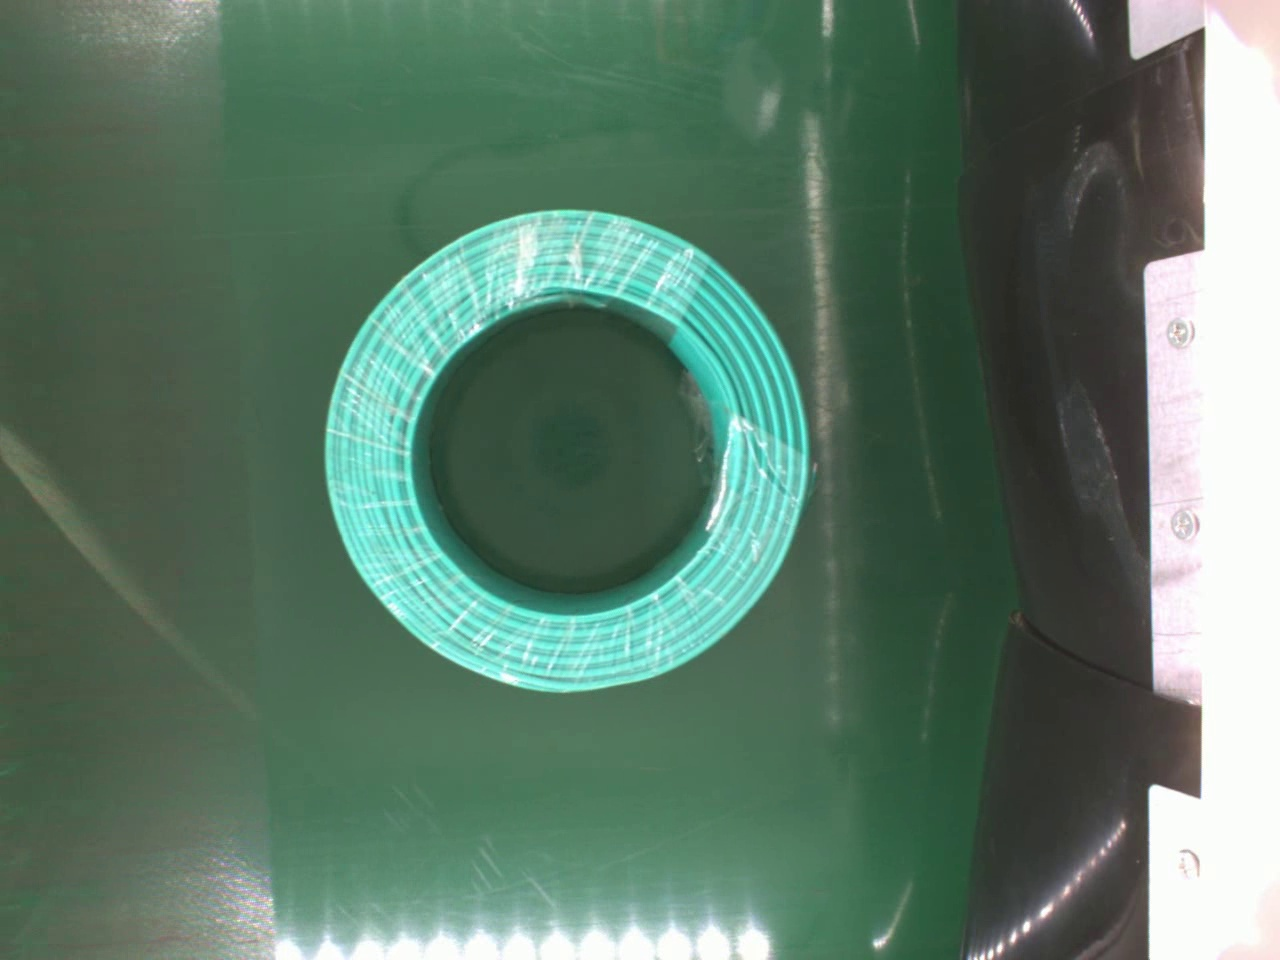green: (321, 203, 817, 690)
